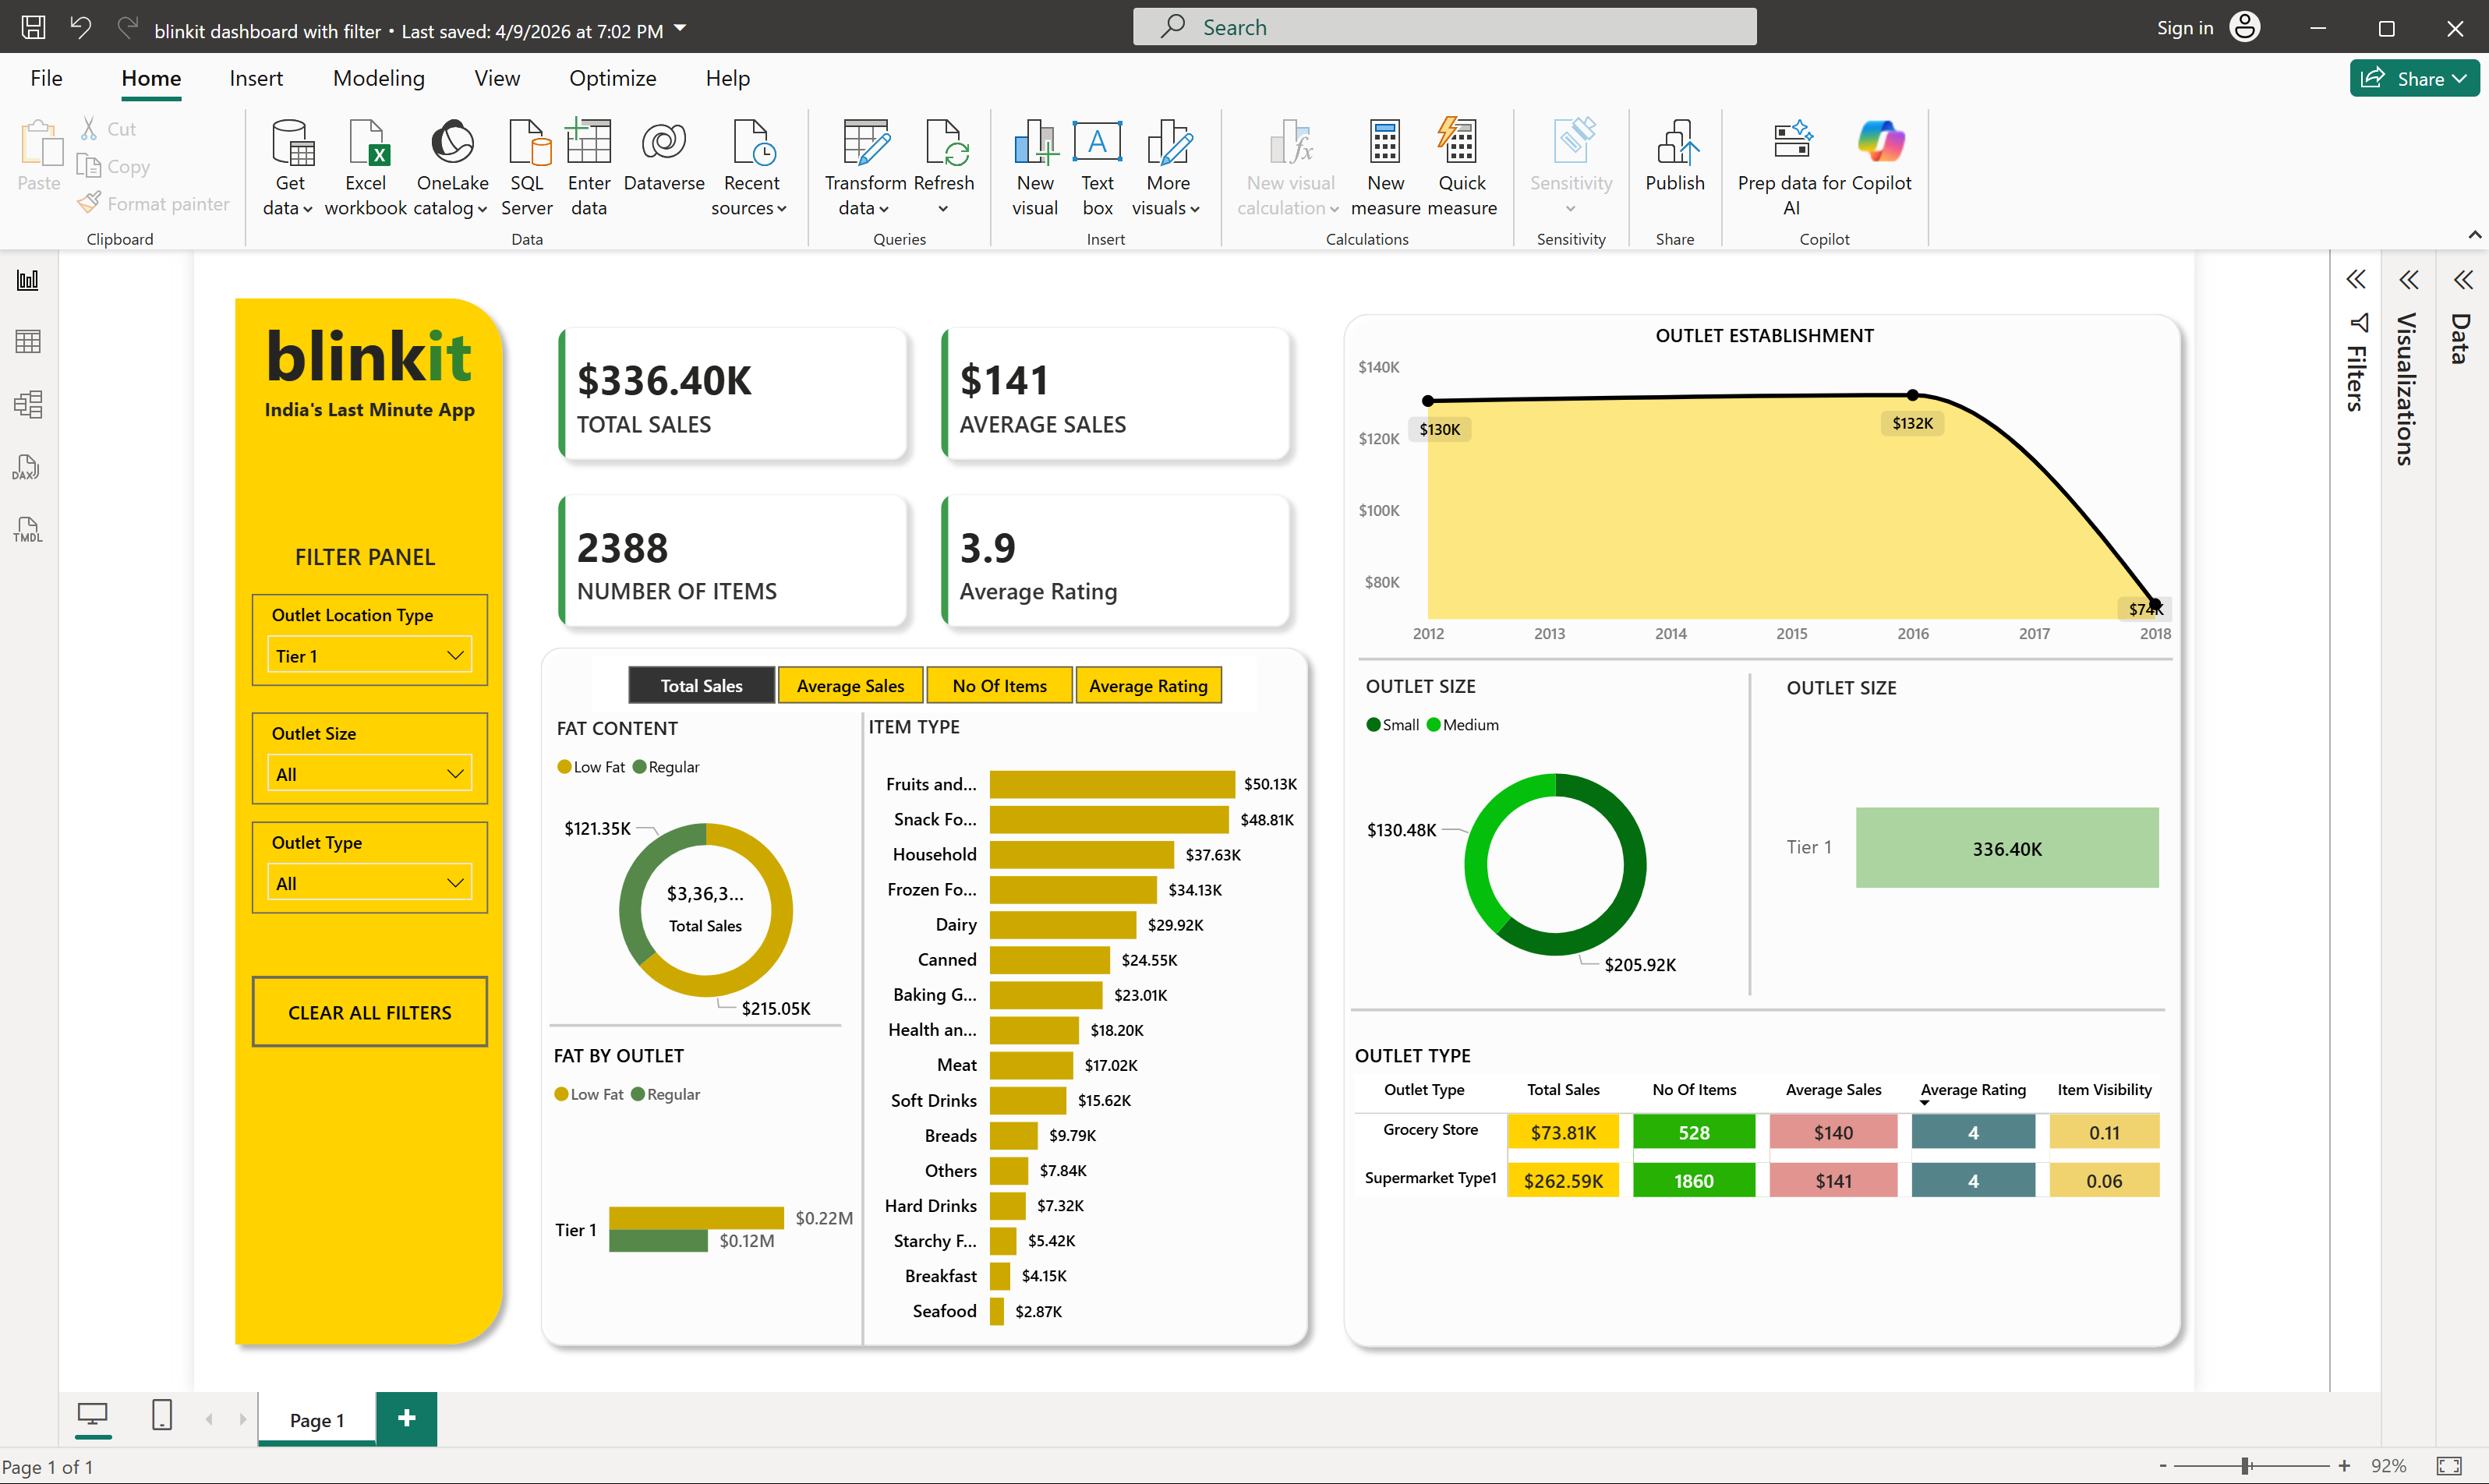

This screenshot's page, from the dashboard's own definition file:
{"tool":"powerbi","page":{"name":"Page 1","canvas":[1400,800],"ordinal":0},"visuals":[{"type":"shape","box":[19.7,25.3,205.2,750.6],"z":0},{"type":"textbox","box":[35.1,35.1,174.3,77.3],"z":1},{"type":"textbox","box":[35.7,97.1,174.3,30],"z":2},{"type":"cardVisual","fields":{"Data":["BlinkIT Grocery Data.Total Sales","BlinkIT Grocery Data.Average Sales","BlinkIT Grocery Data.No Of Items","BlinkIT Grocery Data.Average Rating"]},"box":[226.3,25.3,570.7,269.9],"z":3},{"type":"shape","box":[233.3,269.9,555.2,507],"z":4},{"type":"donutChart","title":"FAT CONTENT","fields":{"Category":["BlinkIT Grocery Data.Item Fat Content"],"Y":["BlinkIT Grocery Data.Total Sales"]},"box":[248.8,324.7,219.3,230.5],"z":5},{"type":"slicer","fields":{"Values":["Matrics.Matrics"]},"box":[278.3,285.3,465.3,39.4],"z":6},{"type":"card","fields":{"Values":["BlinkIT Grocery Data.Total Sales"]},"box":[322.9,430,70,60],"z":8},{"type":"clusteredBarChart","title":"FAT BY OUTLET","fields":{"Category":["BlinkIT Grocery Data.Outlet Location Type"],"Series":["BlinkIT Grocery Data.Item Fat Content"],"Y":["BlinkIT Grocery Data.Total Sales"]},"box":[247.1,554.3,220,212.9],"z":9},{"type":"shape","box":[248.6,532.9,204.3,21.4],"z":10},{"type":"shape","box":[447.1,324.3,41.4,444.3],"z":11},{"type":"barChart","title":"ITEM TYPE","fields":{"Y":["BlinkIT Grocery Data.Total Sales"],"Category":["BlinkIT Grocery Data.Item Type"]},"box":[467.1,324.3,310,444.3],"z":12},{"type":"shape","box":[795.7,35.7,604.3,741.4],"z":13},{"type":"lineChart","title":"OUTLET ESTABLISHMENT","fields":{"Y":["BlinkIT Grocery Data.Total Sales"],"Category":["BlinkIT Grocery Data.Outlet Establishment Year"]},"box":[810,50,580,235.7],"z":14},{"type":"shape","box":[815.7,275.7,570,21.4],"z":15},{"type":"donutChart","title":"OUTLET SIZE","fields":{"Y":["BlinkIT Grocery Data.Total Sales"],"Category":["BlinkIT Grocery Data.Outlet Size"]},"box":[815.7,295.7,275.7,225.7],"z":16},{"type":"funnel","title":"OUTLET SIZE","fields":{"Y":["Sum(BlinkIT Grocery Data.Sales)"],"Category":["BlinkIT Grocery Data.Outlet Location Type"]},"box":[1110,297.1,275.7,225.7],"z":17},{"type":"shape","box":[810,521.4,570,21.4],"z":18},{"type":"slicer","fields":{"Values":["BlinkIT Grocery Data.Outlet Location Type"]},"box":[40,241.4,165.7,64.3],"z":19},{"type":"slicer","fields":{"Values":["BlinkIT Grocery Data.Outlet Size"]},"box":[40,324.3,165.7,64.3],"z":20},{"type":"slicer","fields":{"Values":["BlinkIT Grocery Data.Outlet Type"]},"box":[40,400,165.7,64.3],"z":21},{"type":"textbox","box":[65.7,198.6,112.9,42.9],"z":22},{"type":"pivotTable","title":"OUTLET TYPE","fields":{"Rows":["BlinkIT Grocery Data.Outlet Type"],"Values":["BlinkIT Grocery Data.Total Sales","BlinkIT Grocery Data.No Of Items","BlinkIT Grocery Data.Average Sales","BlinkIT Grocery Data.Average Rating","Avg(BlinkIT Grocery Data.Item Visibility)"]},"box":[807.1,554.3,575.7,222.9],"z":23},{"type":"shape","box":[1068.6,297.1,41.4,225.7],"z":24},{"type":"actionButton","title":"cLEAR","box":[40,508.6,165.7,50],"z":25}]}

Visuals, with their boxes on the page's 1400x800 design canvas (x1, y1, x2, y2). These are canvas units, not pixel positions in the 2489x1484 screenshot, which may show the page scaled, cropped or inside an application window:
shape: box(20, 25, 225, 776)
textbox: box(35, 35, 209, 112)
textbox: box(36, 97, 210, 127)
cardVisual - BlinkIT Grocery Data.Total Sales x BlinkIT Grocery Data.Average Sales: box(226, 25, 797, 295)
shape: box(233, 270, 788, 777)
"FAT CONTENT" donutChart: box(249, 325, 468, 555)
slicer - Matrics.Matrics: box(278, 285, 744, 325)
card - BlinkIT Grocery Data.Total Sales: box(323, 430, 393, 490)
"FAT BY OUTLET" clusteredBarChart: box(247, 554, 467, 767)
shape: box(249, 533, 453, 554)
shape: box(447, 324, 488, 769)
"ITEM TYPE" barChart: box(467, 324, 777, 769)
shape: box(796, 36, 1400, 777)
"OUTLET ESTABLISHMENT" lineChart: box(810, 50, 1390, 286)
shape: box(816, 276, 1386, 297)
"OUTLET SIZE" donutChart: box(816, 296, 1091, 521)
"OUTLET SIZE" funnel: box(1110, 297, 1386, 523)
shape: box(810, 521, 1380, 543)
slicer - BlinkIT Grocery Data.Outlet Location Type: box(40, 241, 206, 306)
slicer - BlinkIT Grocery Data.Outlet Size: box(40, 324, 206, 389)
slicer - BlinkIT Grocery Data.Outlet Type: box(40, 400, 206, 464)
textbox: box(66, 199, 179, 242)
"OUTLET TYPE" pivotTable: box(807, 554, 1383, 777)
shape: box(1069, 297, 1110, 523)
"cLEAR" actionButton: box(40, 509, 206, 559)
